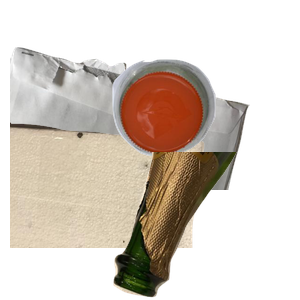glass: (111, 152, 300, 300)
paper: (10, 45, 250, 225)
plastic: (110, 57, 300, 205)
trash: (10, 120, 207, 300)
